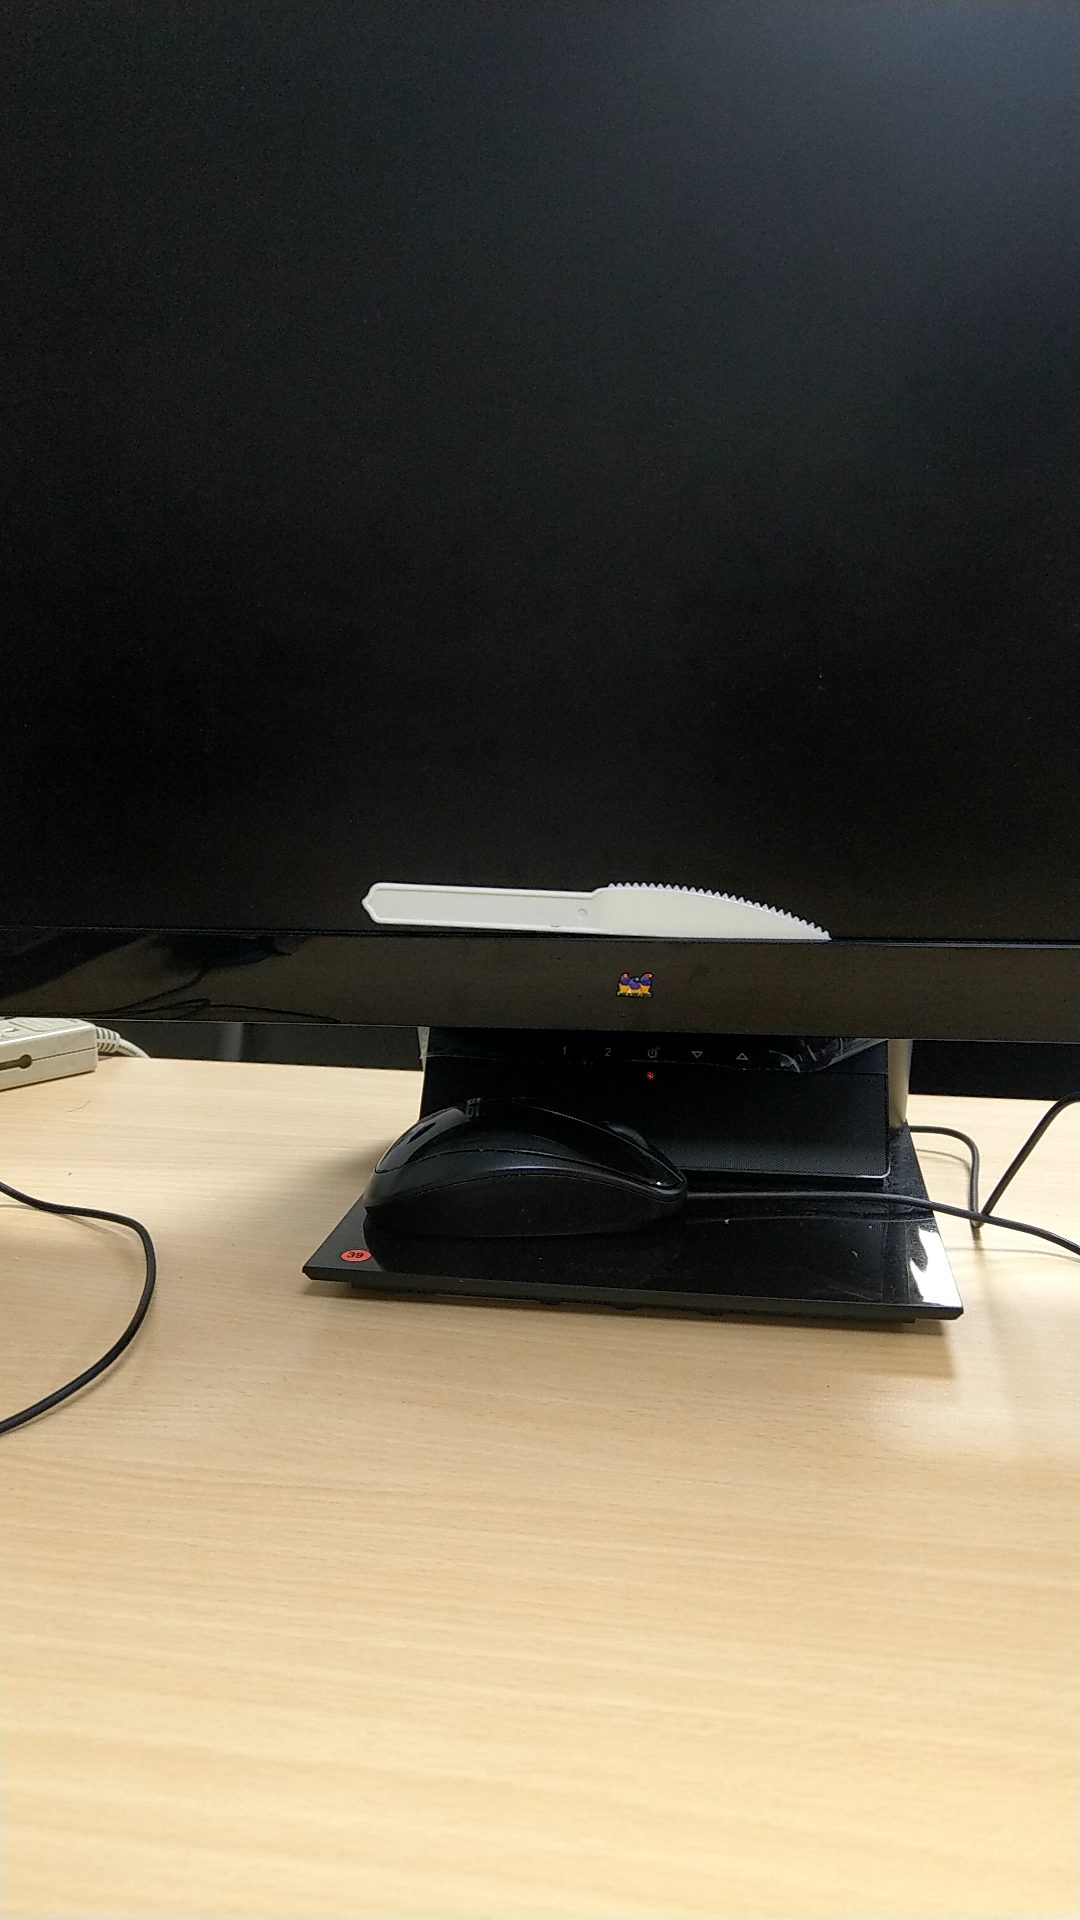knife: (359, 864, 837, 964)
